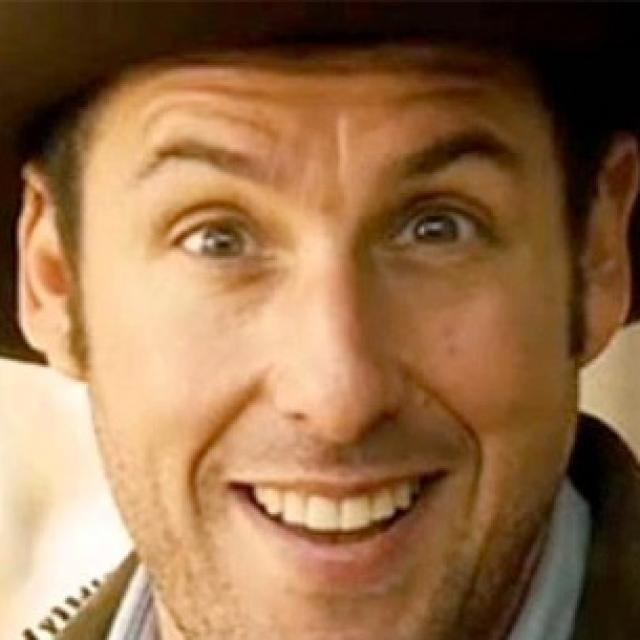Normal: (82, 56, 583, 638)
